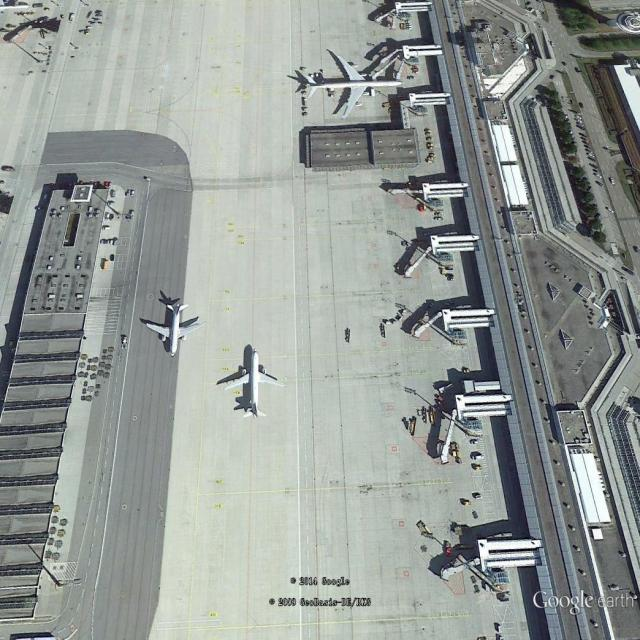aircraft: (297, 49, 410, 125), (218, 342, 288, 422), (142, 300, 207, 360)
